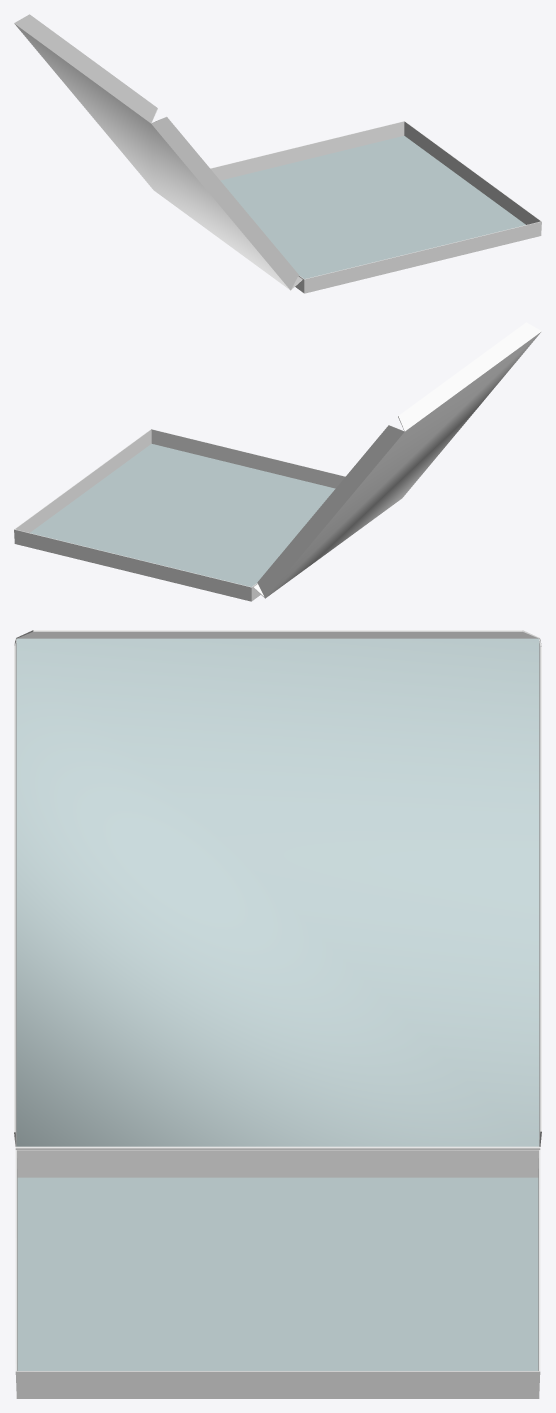
The model's file is SM_PizzaBox.FBX.
3 renders of one model, top to bottom at view 1: azimuth 30°, elevation 25°; view 2: azimuth 150°, elevation 25°; view 3: azimuth 270°, elevation 25°, orthographic. The views are drawn at different scales.
Visible parts, largest first — view 1: Box008; view 2: Box008; view 3: Box008.
Part boxes in pixels (left/top/right/bottom): Box008: left=14, top=14, right=541, bottom=293; Box008: left=14, top=322, right=541, bottom=601; Box008: left=14, top=630, right=541, bottom=1398.
Bounding box in the file's own units: 101 × 53.65 × 61.81.
Materials: 1 (1 with a texture image).
